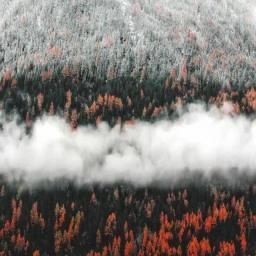Low smoke: (2, 101, 250, 190)
